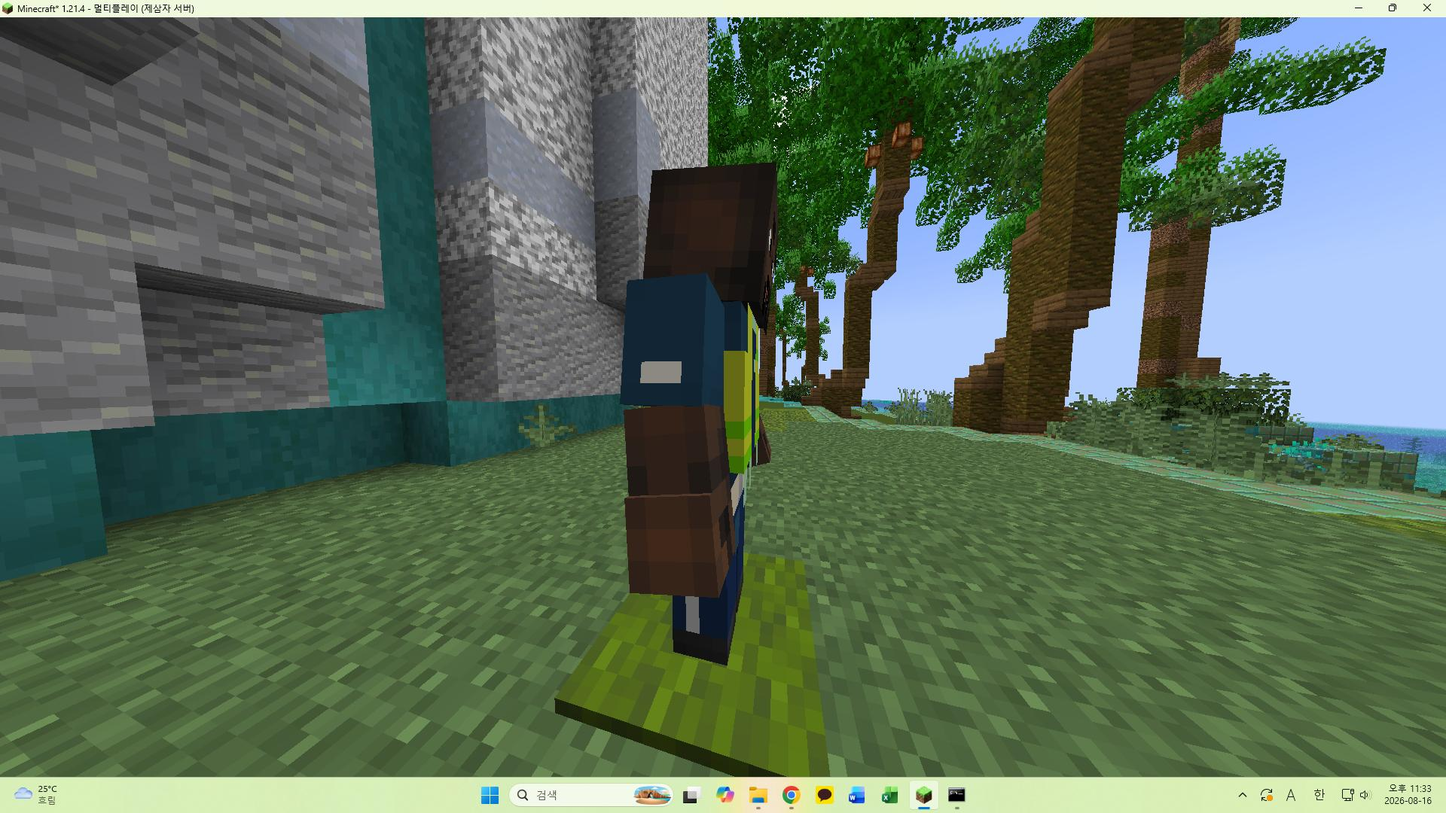Guardian: (621, 167, 775, 665)
